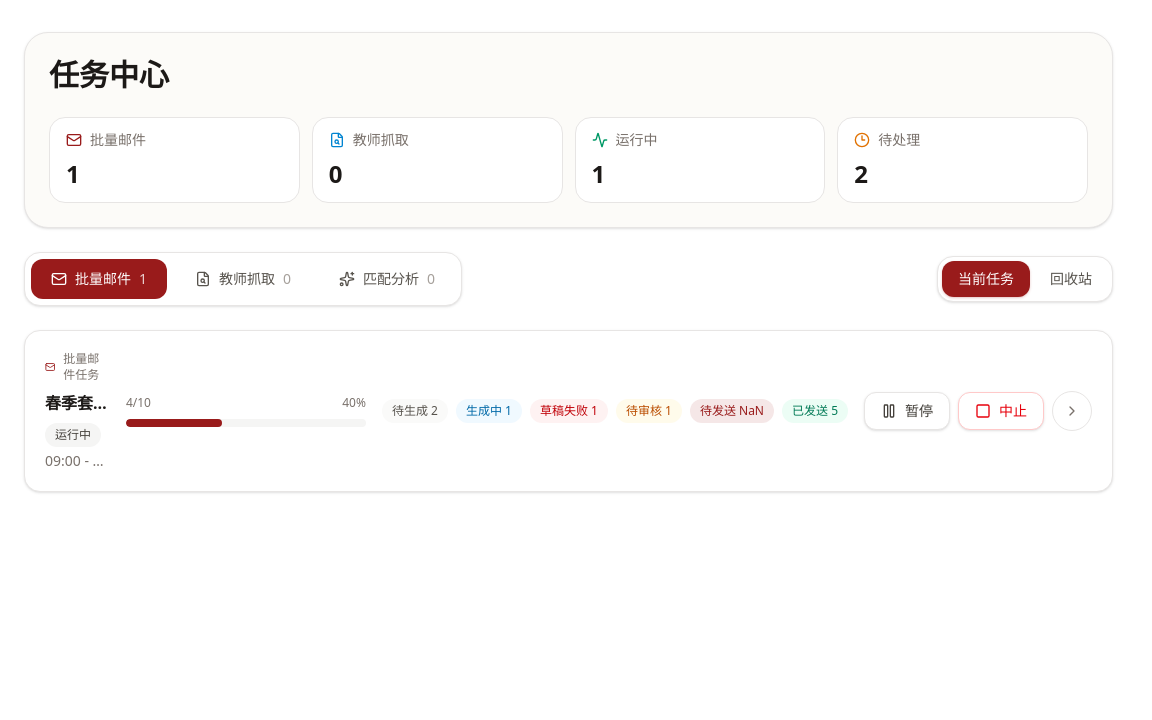
Test: TasksPage layout › opens batch task details from the single-column task list
Expected: the text "生成中 1" is shown, [456,399,522,423]
Expected: the text "草稿失败 1" is shown, [530,399,608,423]
Click the button named "查看详情" at (1072, 411), box [1052,391,1092,431]
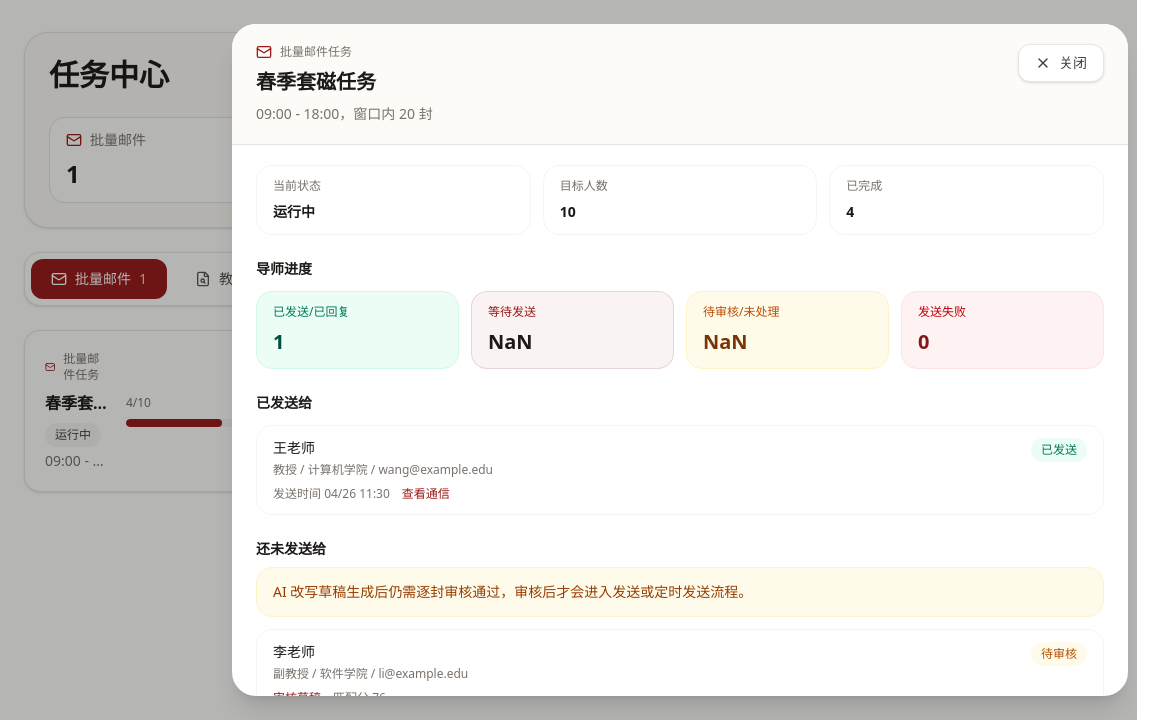
Expected: the dialog named "批量任务详情" is shown
Expected: the heading "已发送给" is shown, [256,393,312,412]
Expected: the text "王老师" is shown, [273,438,315,457]
Click the button "关闭" at (1061, 63), box [1018,44,1104,82]
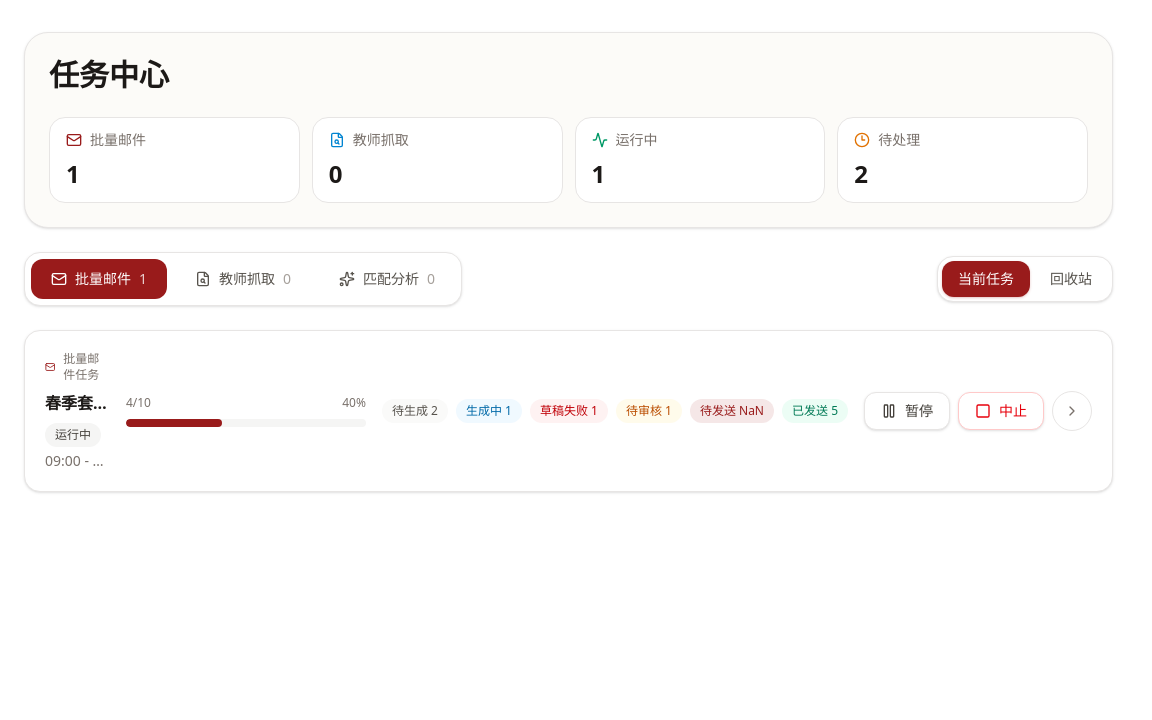
Expected: the dialog "批量任务详情" is gone
